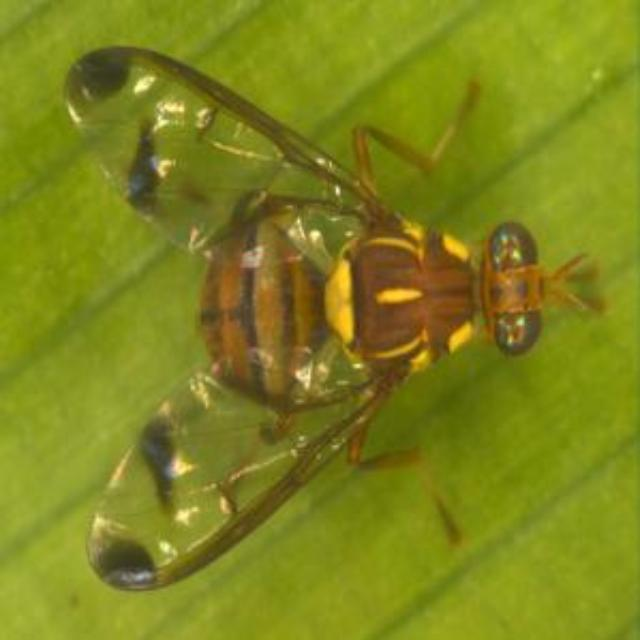melon fly: (7, 15, 606, 640)
